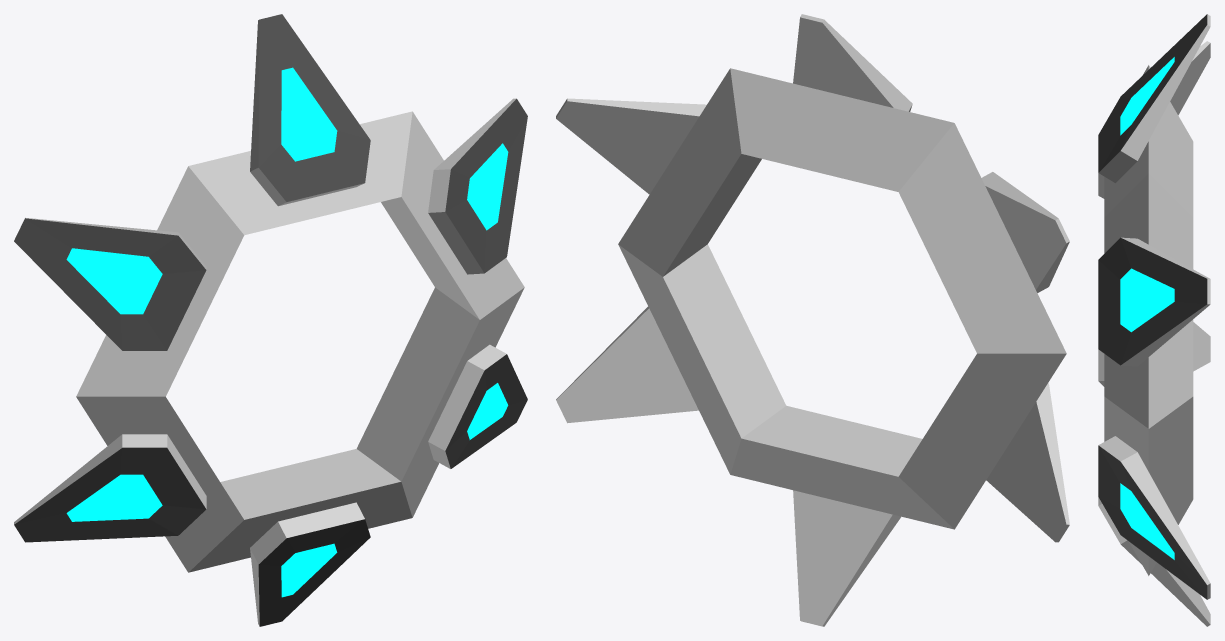
Rendered from Roofdec1.fbx.
The picture shows the model from 3 angles, left to right: view 1: azimuth 30°, elevation 25°; view 2: azimuth 150°, elevation 25°; view 3: azimuth 270°, elevation 25°; orthographic projection.
Parts seen in each view (by area): view 1: Torus; view 2: Torus; view 3: Torus.
Part boxes in pixels (x1,y1,x2,y2): Torus: (14,14,527,626); Torus: (556,14,1069,626); Torus: (1098,14,1210,626).
Bounding box in the file's own units: 286 × 323 × 54.65.
